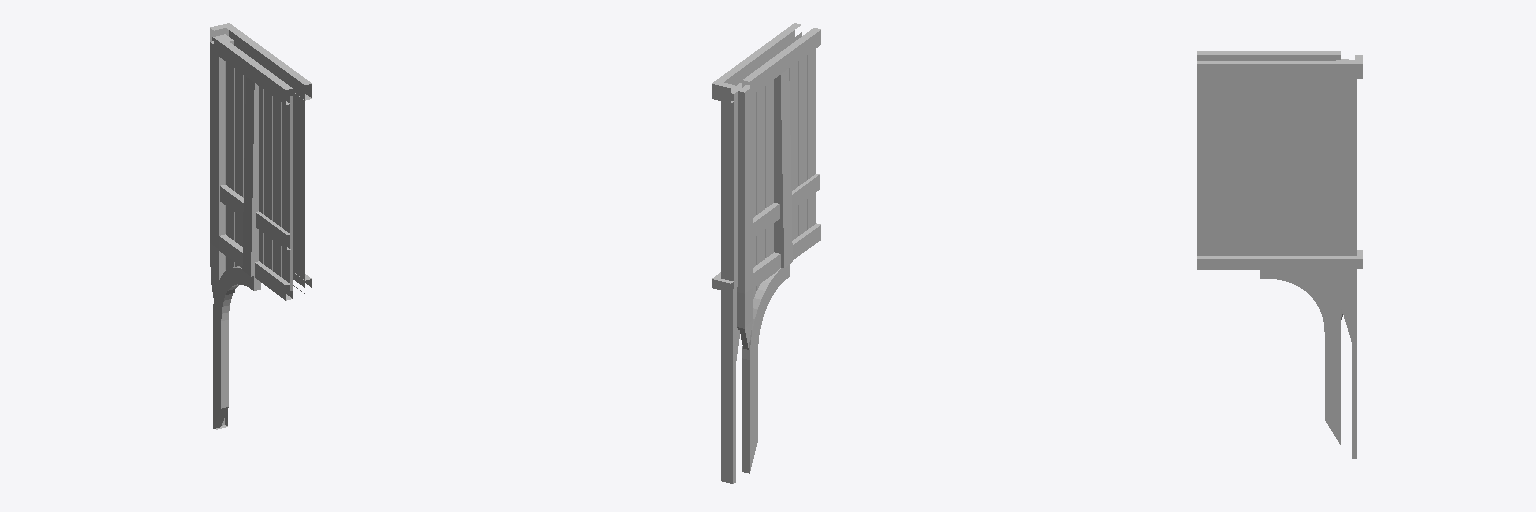
File: Overhang_Side_WoodWear_Long_L.obj
3 renders of one model, left to right at view 1: azimuth 30°, elevation 25°; view 2: azimuth 150°, elevation 25°; view 3: azimuth 270°, elevation 25°, orthographic.
Parts seen in each view (by area): view 1: Overhang_Side_WoodWear_Long_L; view 2: Overhang_Side_WoodWear_Long_L; view 3: Overhang_Side_WoodWear_Long_L.
Boxes of the visible parts, box(x1,y1,x2,y2) form: Overhang_Side_WoodWear_Long_L: box(210, 23, 311, 429); Overhang_Side_WoodWear_Long_L: box(712, 23, 820, 483); Overhang_Side_WoodWear_Long_L: box(1197, 51, 1362, 458).
Bounding box in the file's own units: 0.4793 × 6.12 × 2.31.